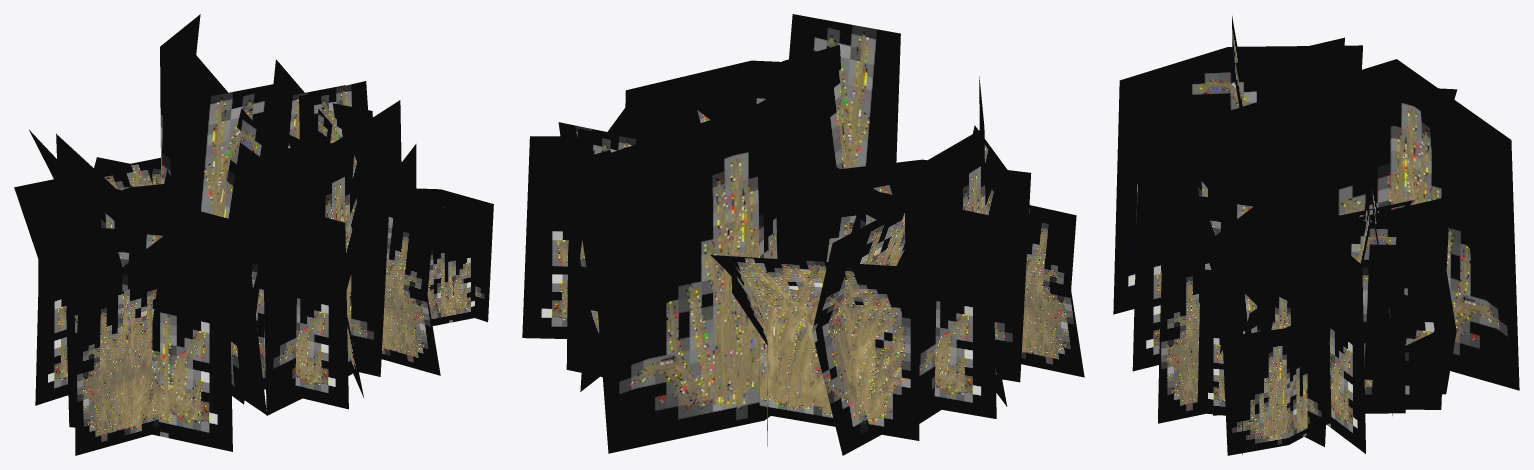
File: grass.glb
3 renders of one model, left to right at view 1: azimuth 30°, elevation 25°; view 2: azimuth 150°, elevation 25°; view 3: azimuth 270°, elevation 25°, orthographic. The views are drawn at different scales.
Parts seen in each view (by area): view 1: clump_dry_grass_7_M_dry_grass_0; view 2: clump_dry_grass_7_M_dry_grass_0; view 3: clump_dry_grass_7_M_dry_grass_0.
Boxes of the visible parts, box(x1,y1,x2,y2) form: clump_dry_grass_7_M_dry_grass_0: box(14, 14, 493, 455); clump_dry_grass_7_M_dry_grass_0: box(522, 14, 1084, 455); clump_dry_grass_7_M_dry_grass_0: box(1113, 16, 1519, 455).
Size of the model in its own units: 1.37 by 0.9476 by 1.08.
Materials: 1 (1 with a texture image).
